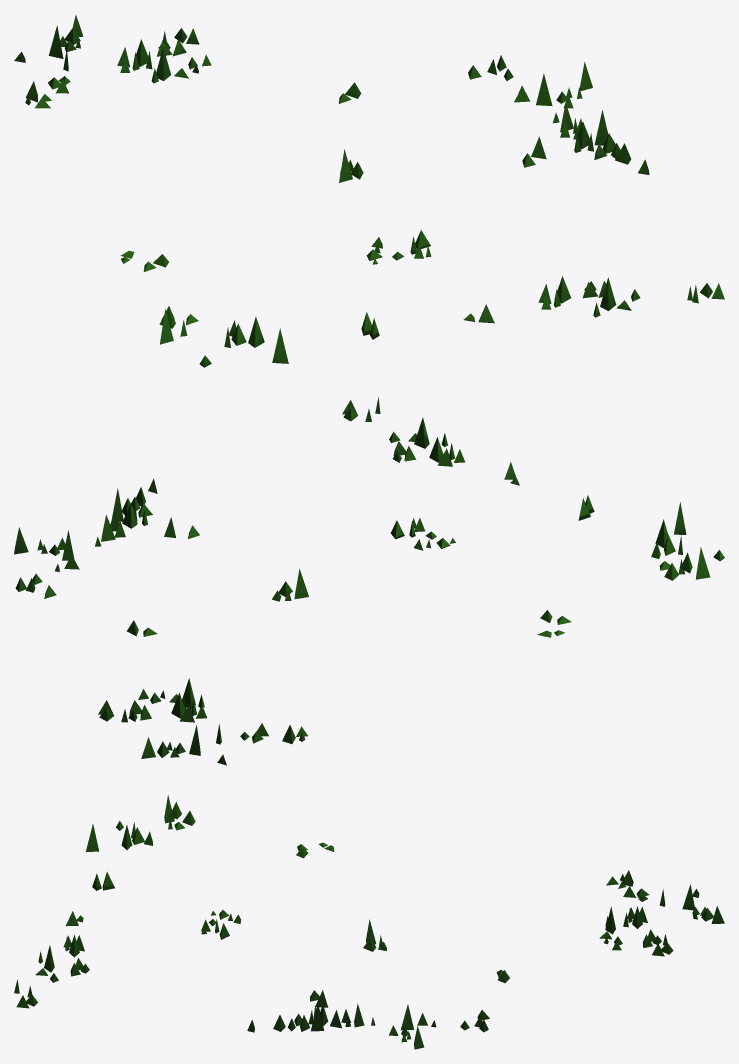
Rendered from Plant_01.FBX.
3 views of the same model, one above another, from view 1: azimuth 30°, elevation 25°; view 2: azimuth 150°, elevation 25°; view 3: azimuth 270°, elevation 25° (orthographic). The views are drawn at different scales.
Parts seen in each view (by area): view 1: Plant_01; view 2: Plant_01; view 3: Plant_01.
Part boxes in pixels (x1,y1,x2,y2): Plant_01: (14,14,724,367); Plant_01: (14,396,724,765); Plant_01: (14,795,724,1049).
Size of the model in its own units: 16.38 by 1.04 by 21.22.
